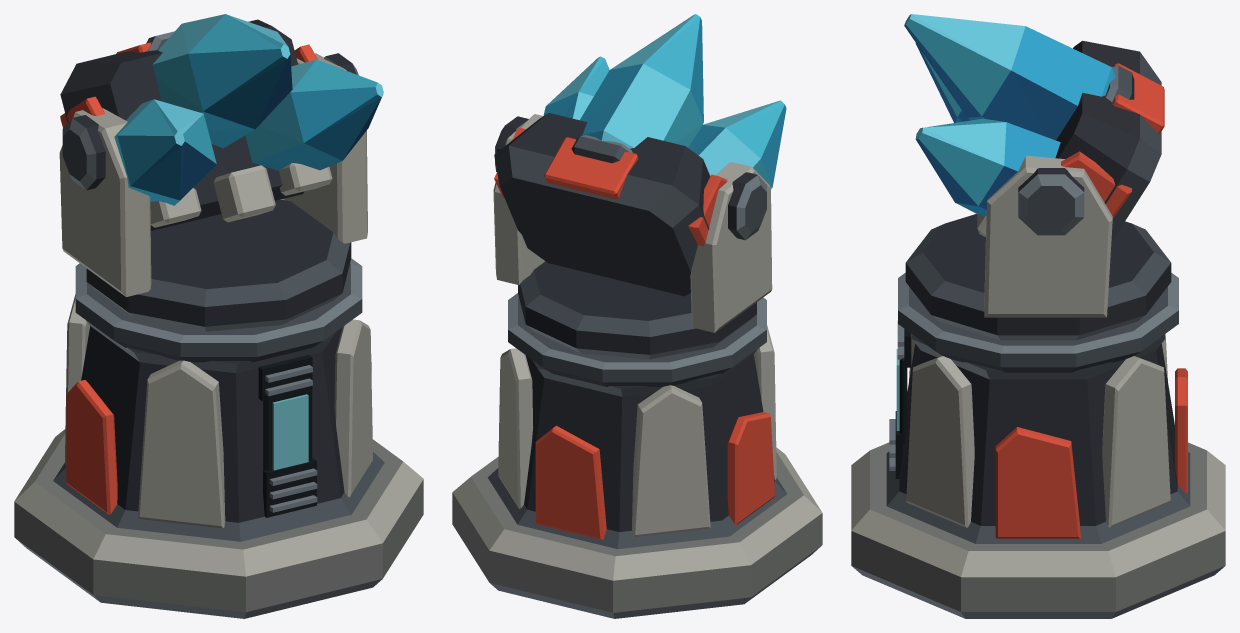
The model's file is lv2_givre.glb.
3 views of the same model, side by side, from view 1: azimuth 30°, elevation 25°; view 2: azimuth 150°, elevation 25°; view 3: azimuth 270°, elevation 25° (orthographic). The views are drawn at different scales.
Visible parts, largest first — view 1: Base, Barrel_Recoil, Turret_Yaw, Base_TeamColor, Team_Panels; view 2: Base, Barrel_Recoil, Turret_Yaw, Base_TeamColor, Team_Panels; view 3: Base, Barrel_Recoil, Turret_Yaw, Base_TeamColor, Team_Panels.
Part boxes in pixels (<box>): Base: <box>14,258,423,618</box>; Barrel_Recoil: <box>60,14,383,230</box>; Turret_Yaw: <box>59,53,367,331</box>; Base_TeamColor: <box>66,362,371,514</box>; Team_Panels: <box>60,42,317,127</box>; Base: <box>452,293,822,618</box>; Barrel_Recoil: <box>494,14,786,296</box>; Turret_Yaw: <box>493,114,772,359</box>; Base_TeamColor: <box>535,412,774,540</box>; Team_Panels: <box>494,127,727,246</box>; Base: <box>851,273,1225,618</box>; Barrel_Recoil: <box>904,14,1161,242</box>; Turret_Yaw: <box>905,155,1171,340</box>; Base_TeamColor: <box>995,368,1187,538</box>; Team_Panels: <box>1061,63,1164,218</box>.
Size of the model in its own units: 1.66 by 2.6 by 1.66.
